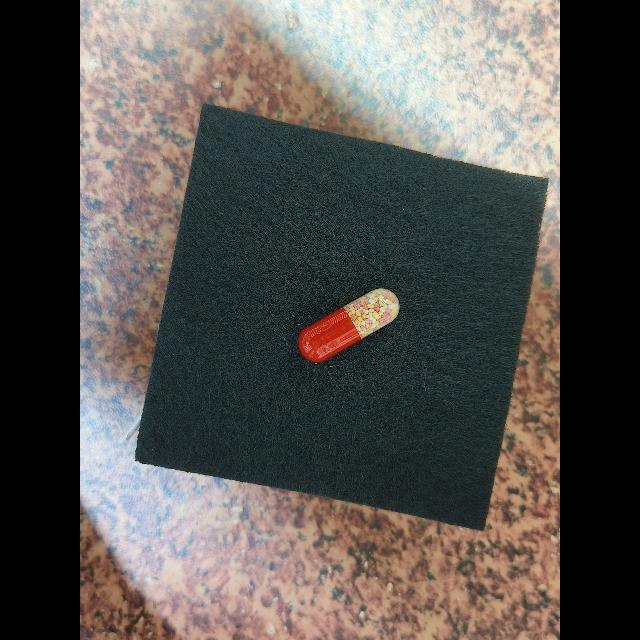Intact Capsule: (298, 288, 400, 362)
